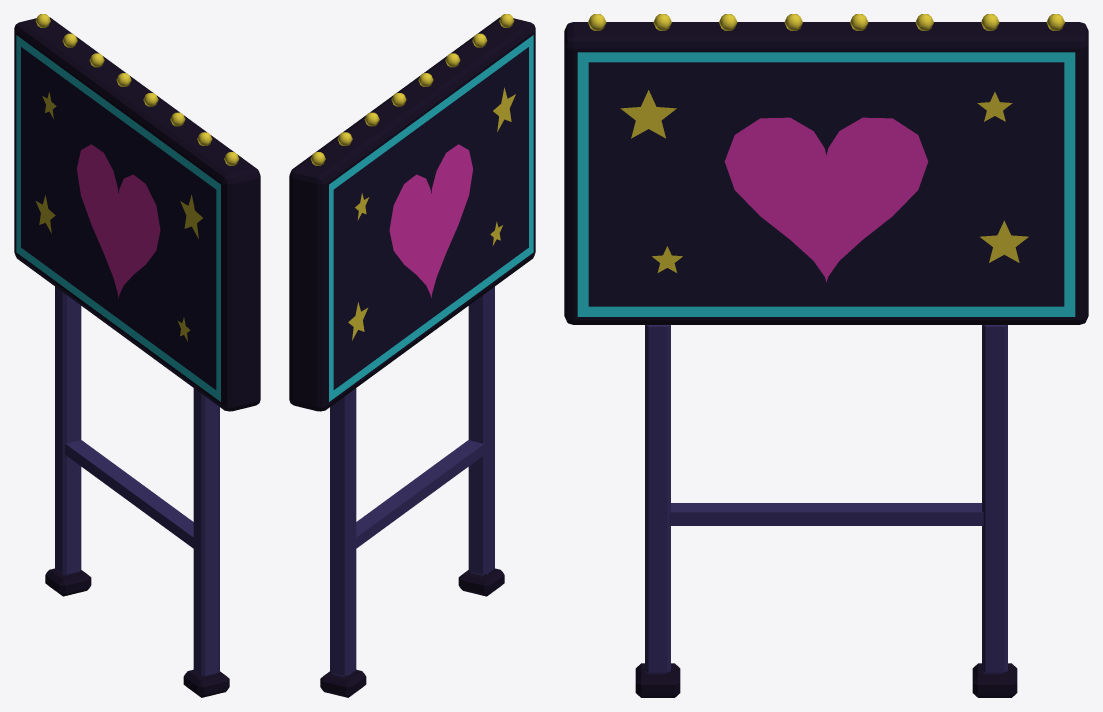
Rendered from neon-deco2.glb.
3 renders of one model, left to right at view 1: azimuth 30°, elevation 25°; view 2: azimuth 150°, elevation 25°; view 3: azimuth 270°, elevation 25°, orthographic. The views are drawn at different scales.
Parts seen in each view (by area): view 1: neon-deco2; view 2: neon-deco2; view 3: neon-deco2.
Boxes of the visible parts, <box> form: neon-deco2: <box>14,14,260,697</box>; neon-deco2: <box>289,14,535,697</box>; neon-deco2: <box>564,14,1088,697</box>.
Bounding box in the file's own units: 0.283 × 3.99 × 2.8.
